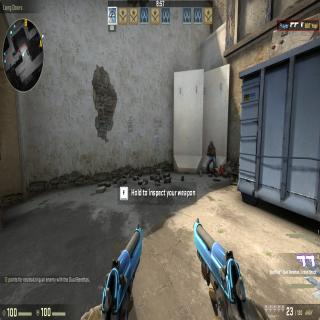T-Body: (206, 140, 217, 175)
T-Head: (209, 140, 213, 149)
